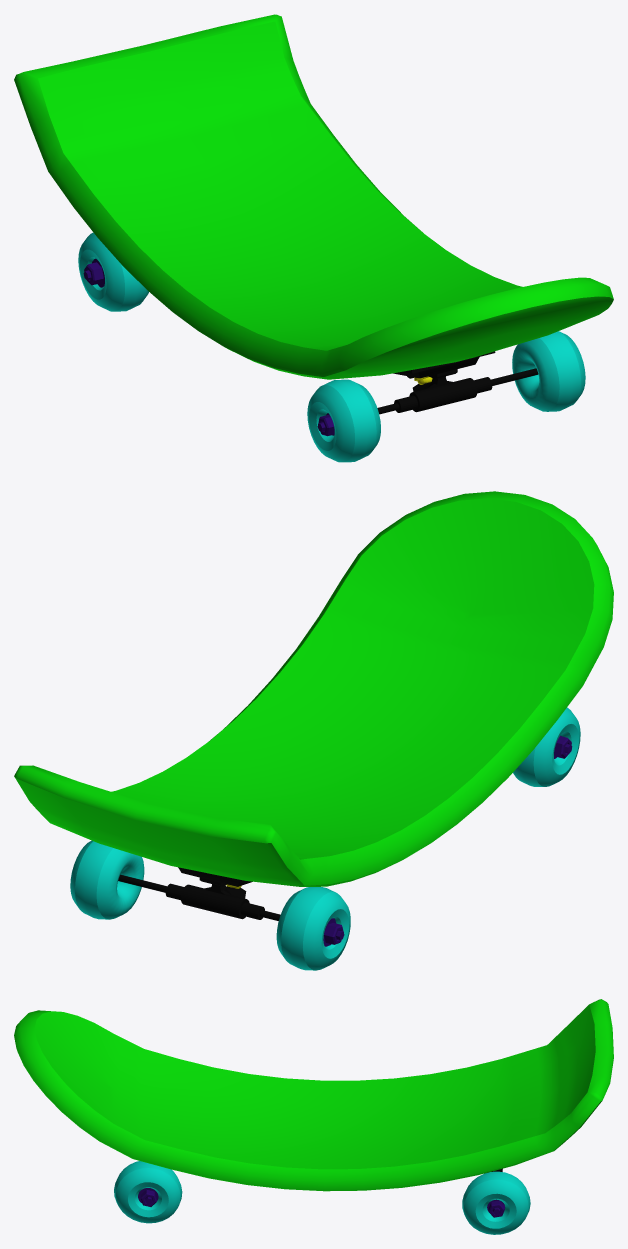
3 renders of one model, top to bottom at view 1: azimuth 30°, elevation 25°; view 2: azimuth 150°, elevation 25°; view 3: azimuth 270°, elevation 25°, orthographic. The views are drawn at different scales.
Visible parts, largest first — view 1: Object001; view 2: Object001; view 3: Object001.
Part boxes in pixels (x1,y1,x2,y2): Object001: (14, 14, 613, 462); Object001: (14, 491, 613, 970); Object001: (14, 999, 613, 1234).
Size of the model in its own units: 7.85 by 6.18 by 20.33.
